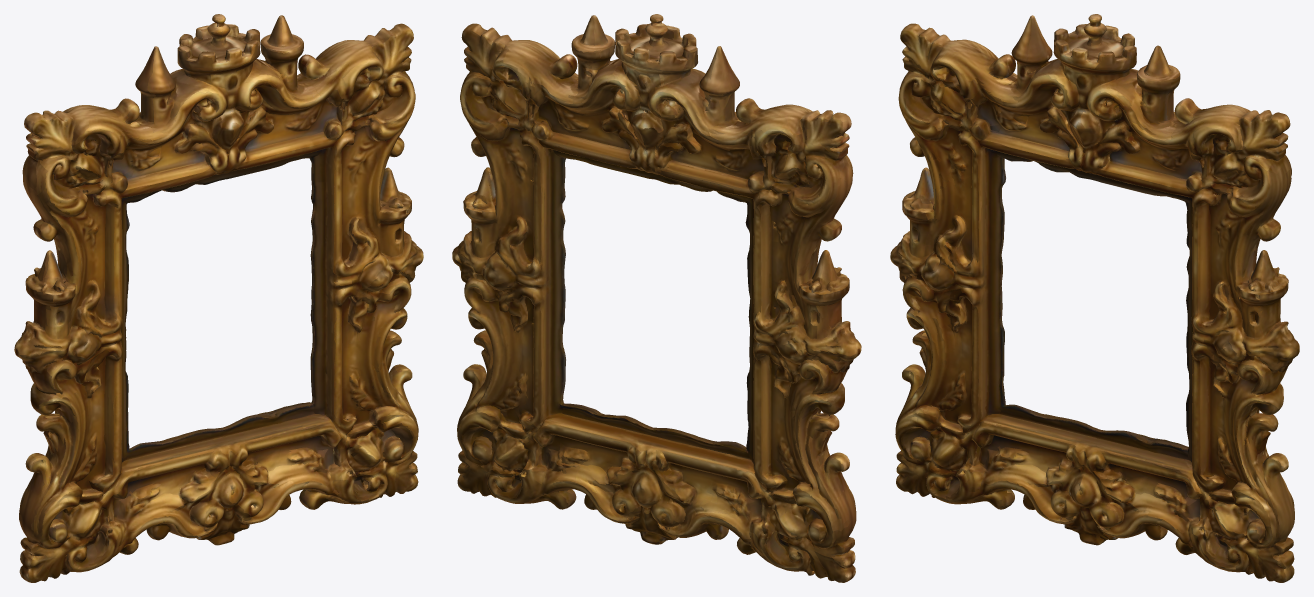
Rendered from picture-frame.glb.
3 renders of one model, left to right at view 1: azimuth 30°, elevation 25°; view 2: azimuth 150°, elevation 25°; view 3: azimuth 330°, elevation 25°, orthographic.
Visible parts, largest first — view 1: geometry_0; view 2: geometry_0; view 3: geometry_0.
Boxes of the visible parts, x1,y1,x2,y2 form: geometry_0: (14,14,423,582); geometry_0: (452,14,861,582); geometry_0: (890,14,1299,582).
Bounding box in the file's own units: 0.4445 × 0.55 × 0.0678.
Materials: 1 (1 with a texture image).
